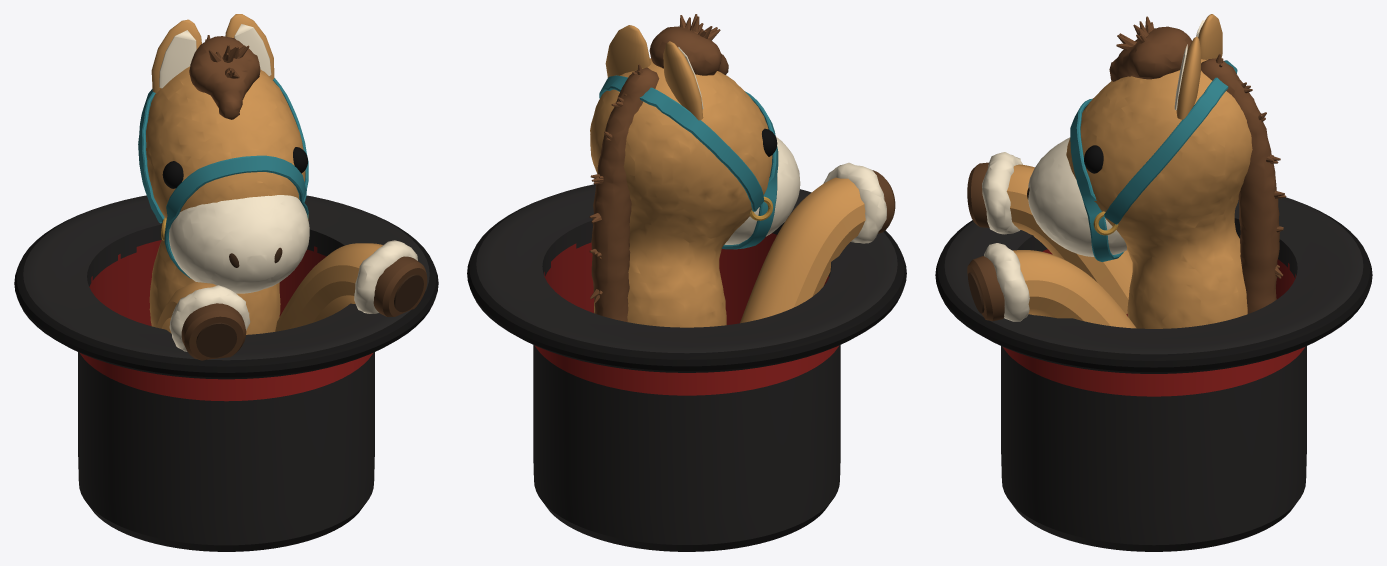
Rendered from top-hat.glb.
The picture shows the model from 3 angles, left to right: view 1: azimuth 30°, elevation 25°; view 2: azimuth 150°, elevation 25°; view 3: azimuth 270°, elevation 25°; orthographic projection. The views are drawn at different scales.
Visible parts, largest first — view 1: brim, ear, ear_inner, band, leg, crownpiece, crown, hoof, ponyforelock, nostril, eye, tuft; view 2: brim, ear, ponyforelock, leg, band, crown, crownpiece, ear_inner, tuft, hoof; view 3: brim, ear, ponyforelock, ear_inner, leg, band, crownpiece, hoof, tuft.
Boxes of the visible parts, box(x1,y1,x2,y2) form: brim: box(14, 195, 438, 551); ear: box(146, 14, 305, 334); ear_inner: box(159, 24, 417, 351); band: box(80, 353, 372, 401); leg: box(156, 243, 382, 333); crownpiece: box(138, 78, 308, 278); crown: box(89, 240, 326, 325); hoof: box(181, 256, 427, 360); ponyforelock: box(189, 36, 260, 119); nostril: box(196, 247, 423, 357); eye: box(162, 147, 307, 188); tuft: box(205, 35, 249, 78); brim: box(467, 184, 906, 551); ear: box(590, 25, 772, 327); ponyforelock: box(591, 26, 728, 321); leg: box(740, 177, 865, 323); band: box(535, 345, 838, 395); crown: box(544, 233, 829, 324); crownpiece: box(599, 75, 778, 249); ear_inner: box(645, 40, 886, 244); tuft: box(589, 14, 720, 302); hoof: box(872, 170, 895, 233); brim: box(935, 197, 1372, 551); ear: box(1066, 14, 1252, 328); ponyforelock: box(1109, 26, 1279, 313); ear_inner: box(982, 20, 1204, 321); leg: box(1006, 164, 1136, 328); band: box(1003, 347, 1304, 396); crownpiece: box(1070, 60, 1237, 261); hoof: box(967, 162, 1004, 321); tuft: box(1116, 16, 1286, 278).
Size of the model in its own units: 0.286 by 0.3419 by 0.286.
